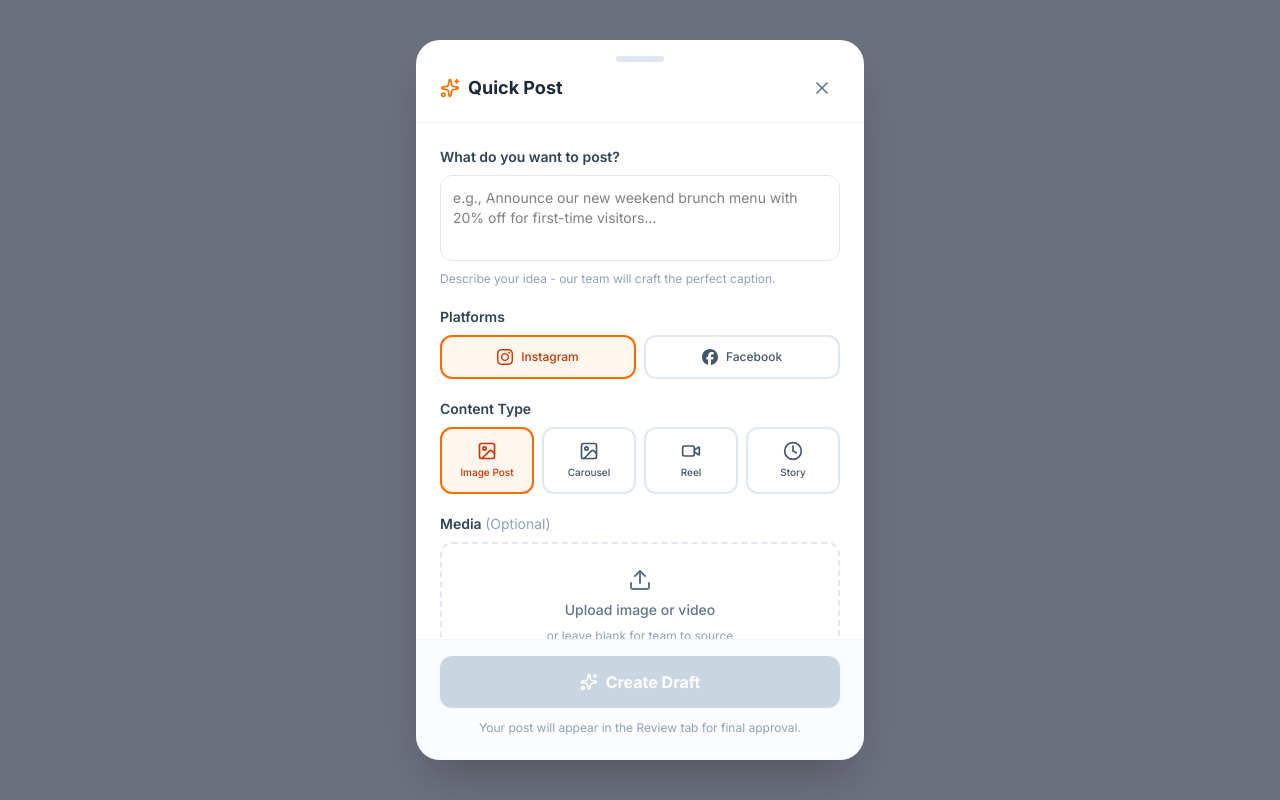
Test case: AdhocPostModal Component › Form Validation › should show error when scheduling without date/time
// Enter concept
Replace the text in the text box with test id "concept-input" with "Test post" at (640, 218), box [440,175,840,261]
(page scrolled)
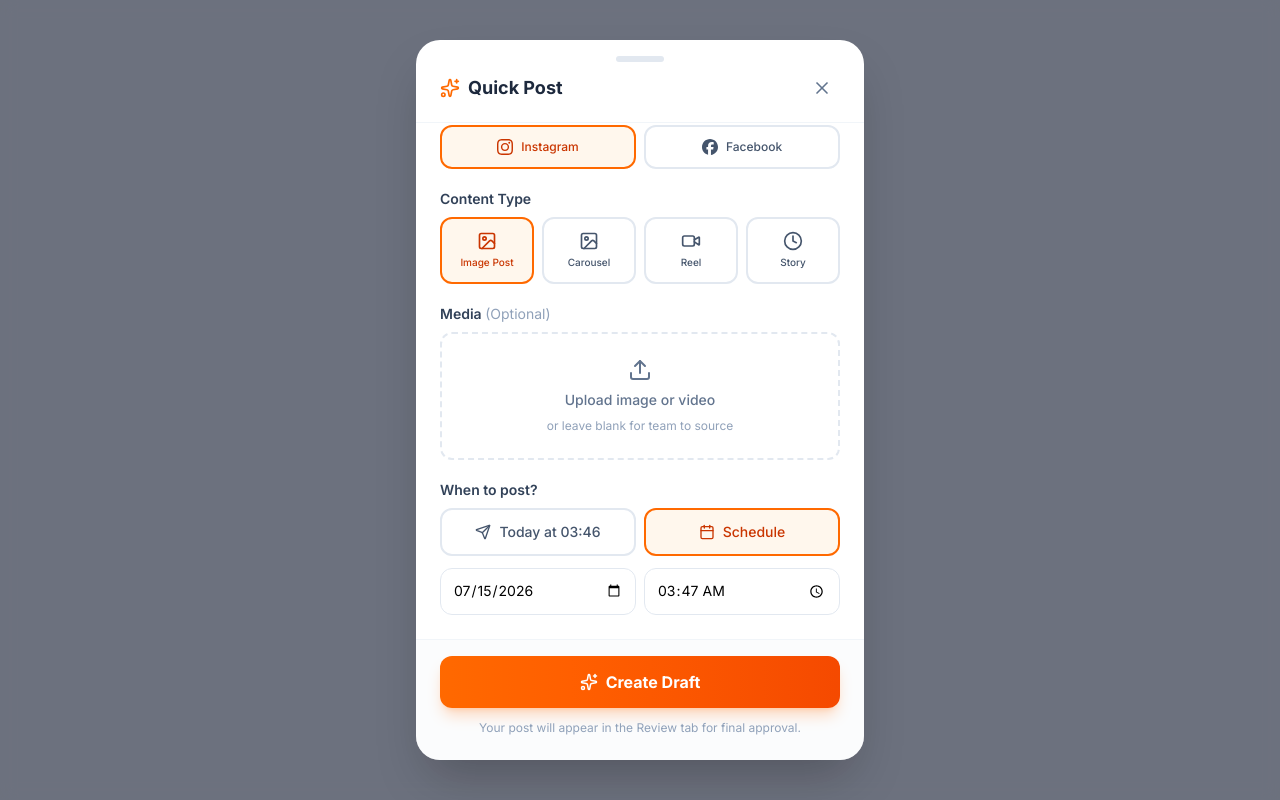
// Clear the pre-filled date and time
Clear the date field with test id "schedule-date" at (538, 591), box [440,568,636,615]
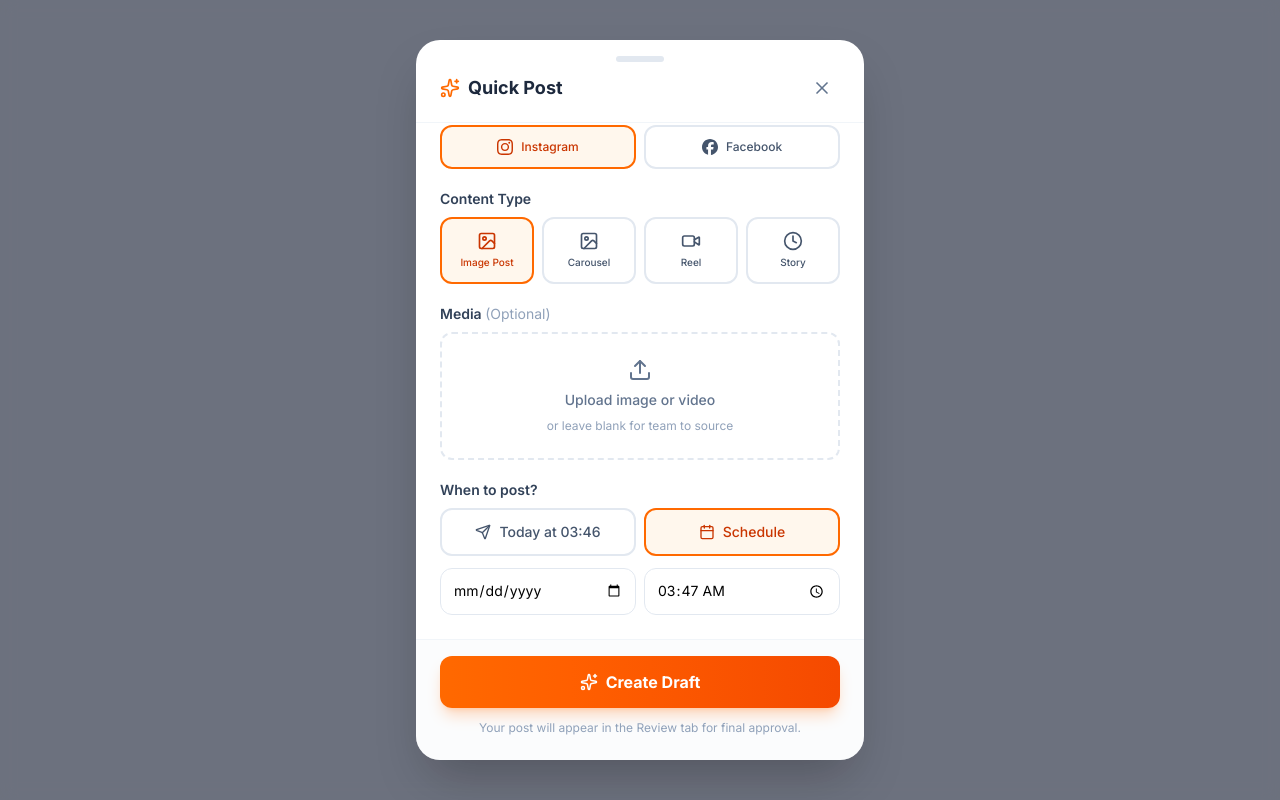
Clear the time field with test id "schedule-time" at (742, 591), box [644,568,840,615]
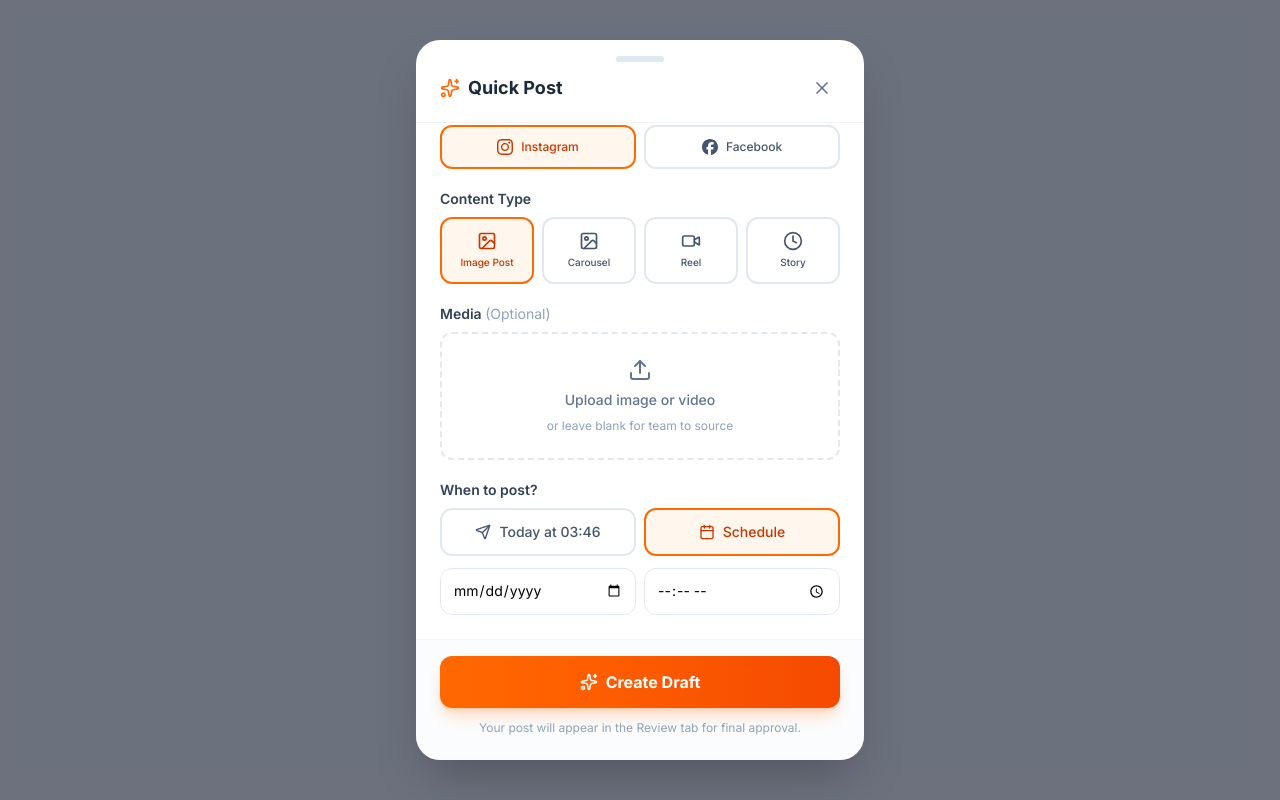
// Try to submit without date/time
Click the button with test id "submit-button" at (640, 682), box [440,656,840,708]
(page scrolled)
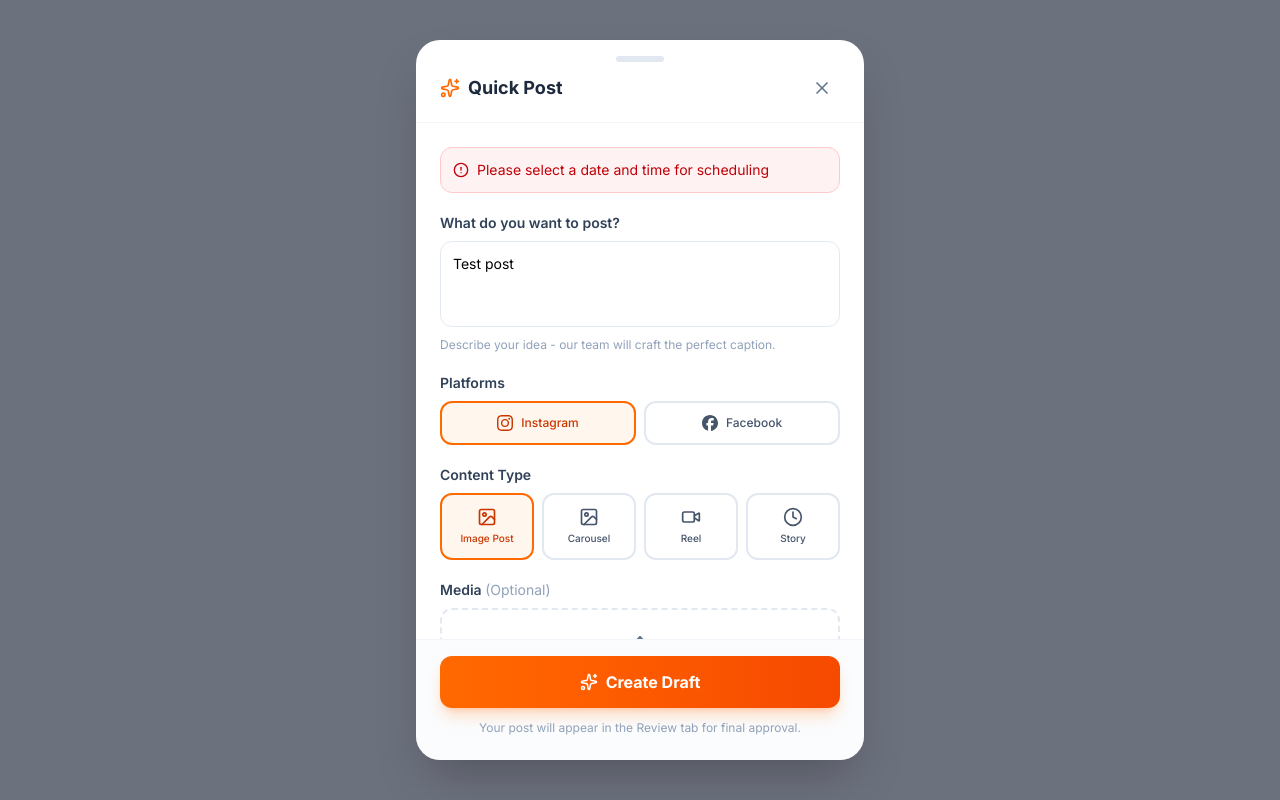
Result: the message reads "Please select a date and time for scheduling" at [477,161,769,178]
